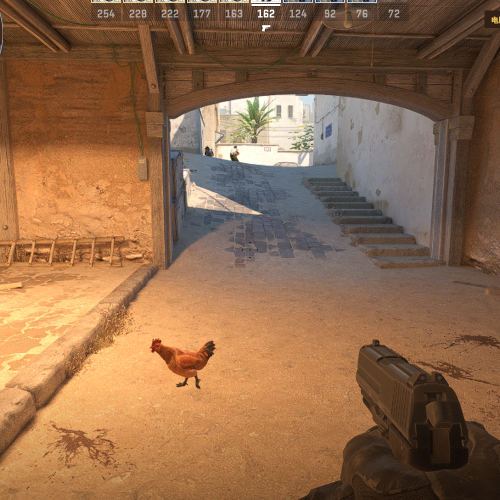chicken: (148, 335, 215, 389)
ct_body: (204, 146, 214, 158)
t_body: (229, 146, 240, 163)
